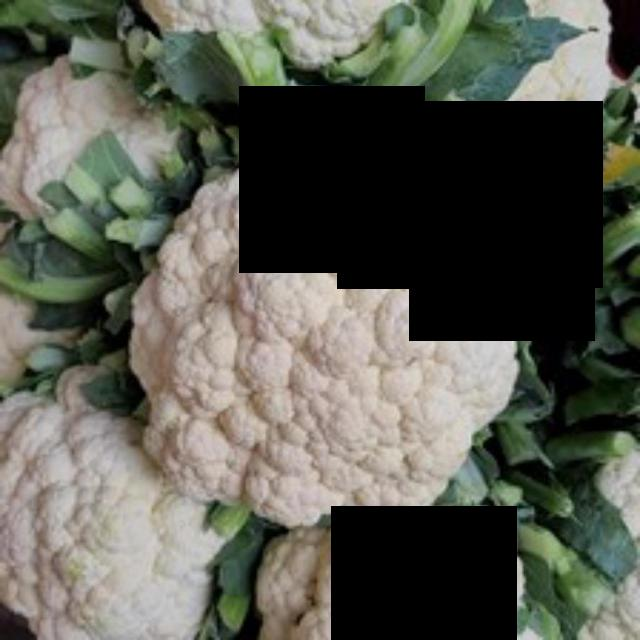cauliflower: (117, 138, 535, 537)
